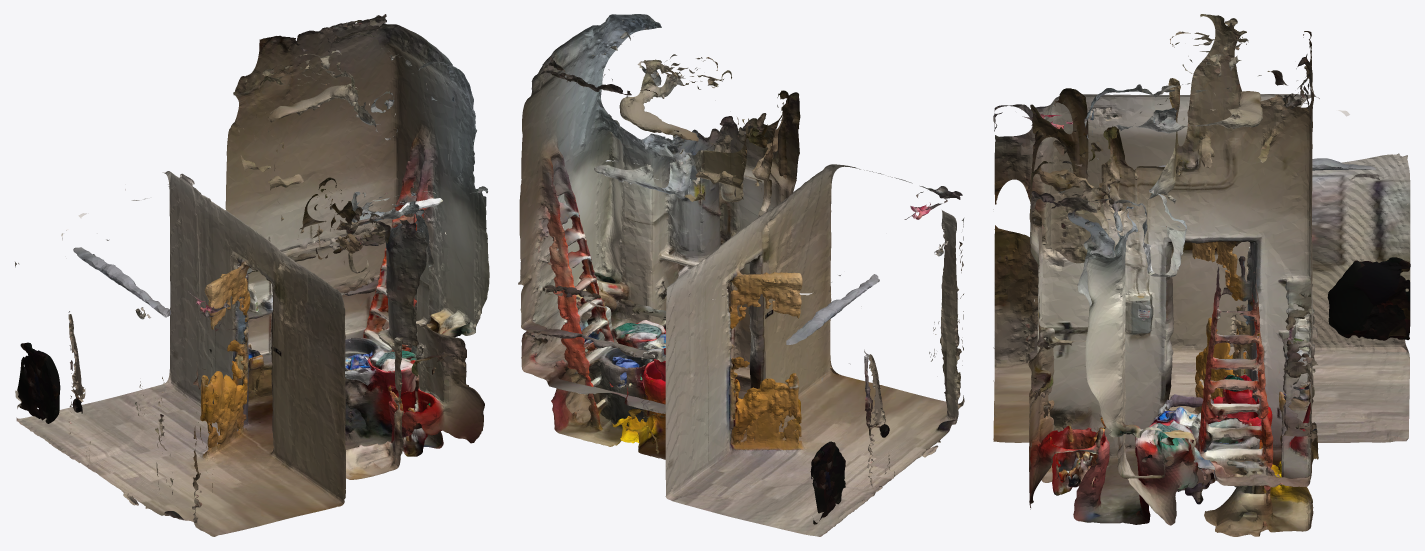
The picture shows the model from 3 angles, left to right: view 1: azimuth 30°, elevation 25°; view 2: azimuth 150°, elevation 25°; view 3: azimuth 270°, elevation 25°; orthographic projection. The views are drawn at different scales.
Bounding box in the file's own units: 5.18 × 5.31 × 4.41.
Materials: 2 (2 with a texture image).
